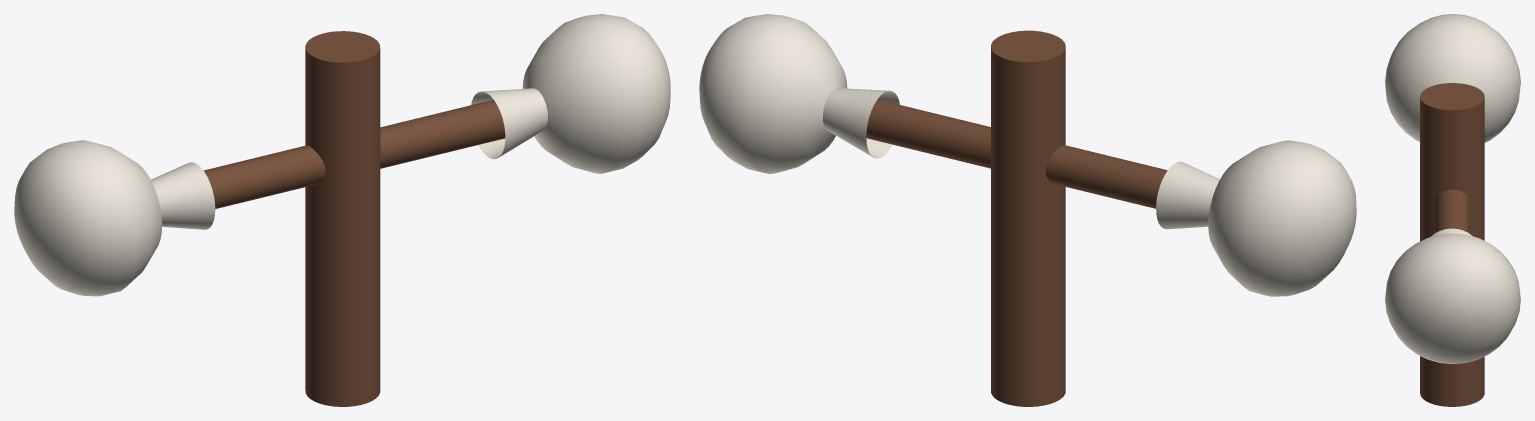
Rendered from dodge_dummy.glb.
The picture shows the model from 3 angles, left to right: view 1: azimuth 30°, elevation 25°; view 2: azimuth 150°, elevation 25°; view 3: azimuth 270°, elevation 25°; orthographic projection. The views are drawn at different scales.
Visible parts, largest first — view 1: Sphere.001, Cylinder.010, Cylinder.011; view 2: Sphere.001, Cylinder.010, Cylinder.011; view 3: Sphere.001, Cylinder.010, Cylinder.011.
Part boxes in pixels (x1,y1,x2,y2): Sphere.001: [14, 14, 670, 296]; Cylinder.010: [305, 31, 380, 406]; Cylinder.011: [203, 100, 505, 208]; Sphere.001: [699, 14, 1356, 296]; Cylinder.010: [991, 30, 1065, 406]; Cylinder.011: [866, 99, 1167, 208]; Sphere.001: [1385, 14, 1520, 363]; Cylinder.010: [1420, 83, 1484, 406]; Cylinder.011: [1435, 189, 1469, 233].
Size of the model in its own units: 3.08 by 1.6 by 0.6625.
